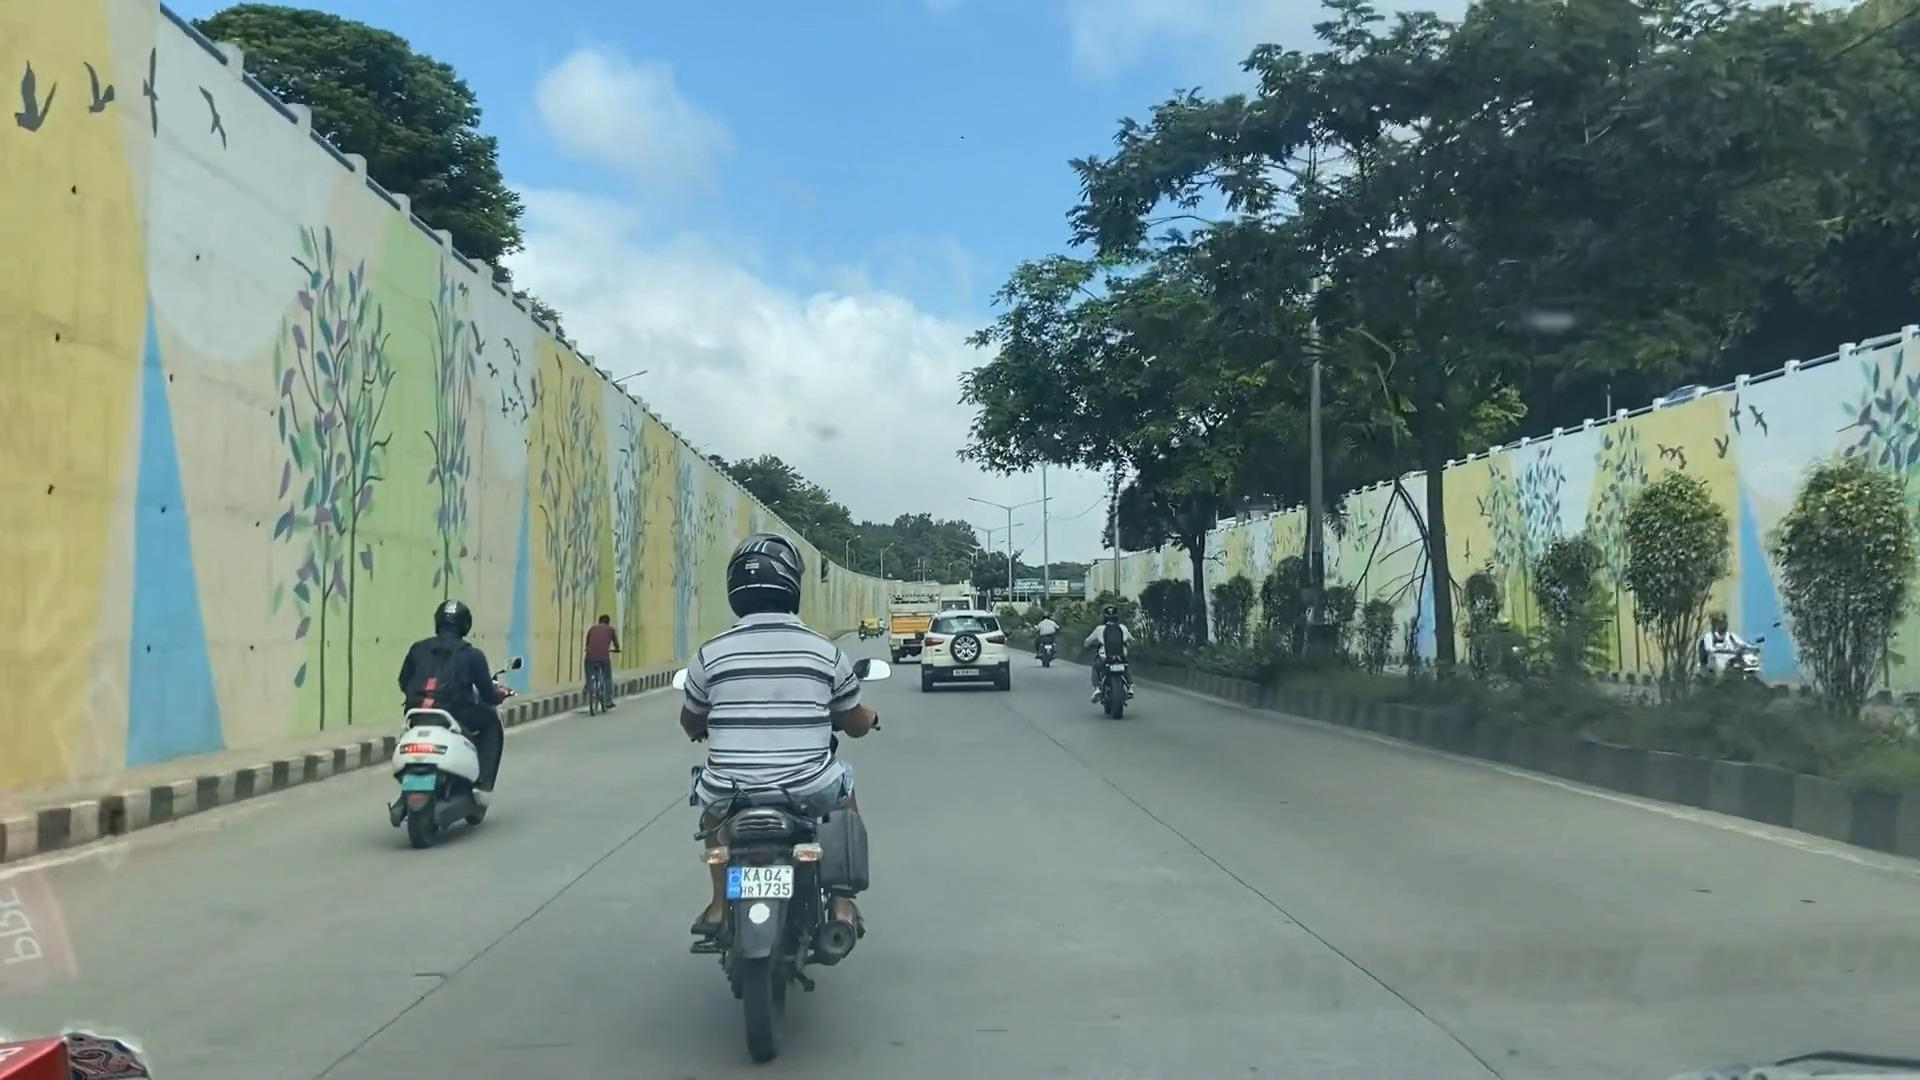LMV: (688, 538, 882, 976), (402, 600, 509, 836), (1080, 600, 1146, 735), (920, 611, 1006, 695)
